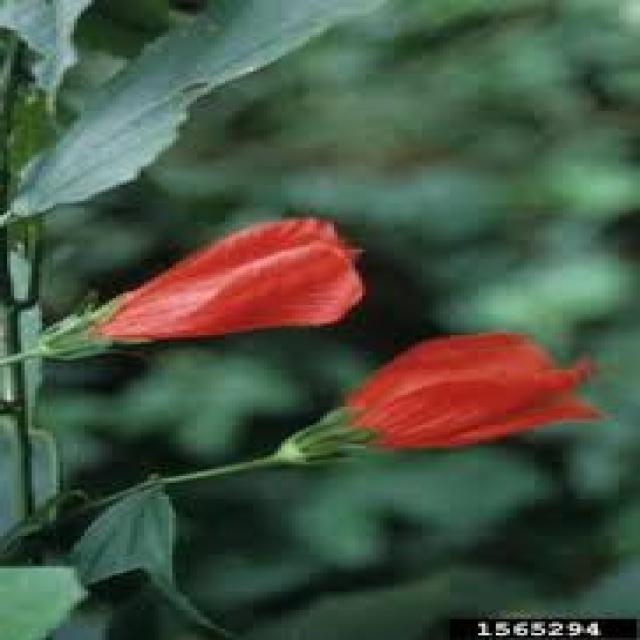Flower: (274, 324, 612, 479), (42, 210, 383, 347)
